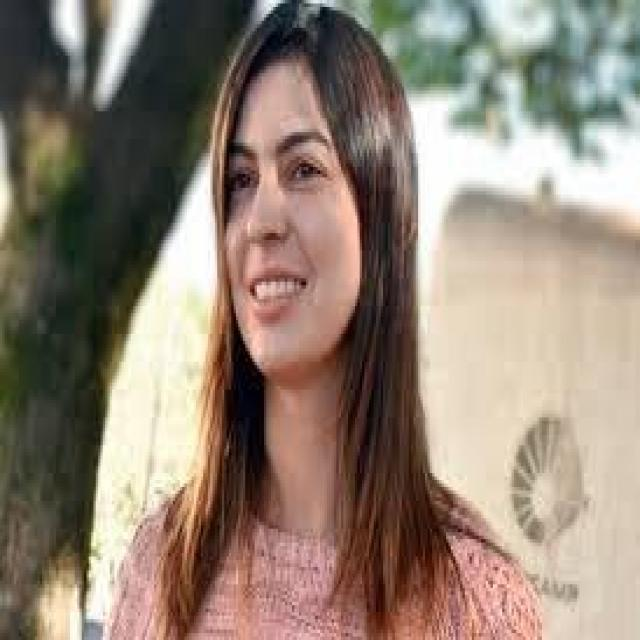person: (70, 4, 544, 633)
